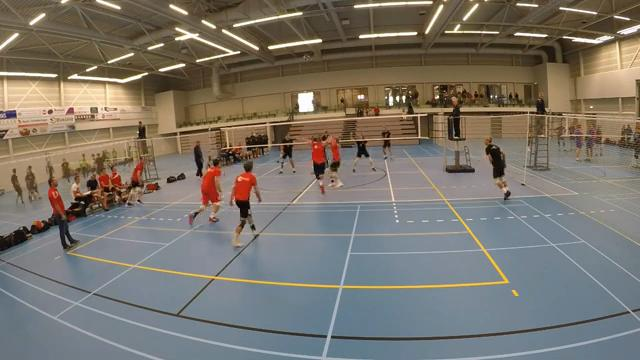alzata: (323, 130, 349, 191)
